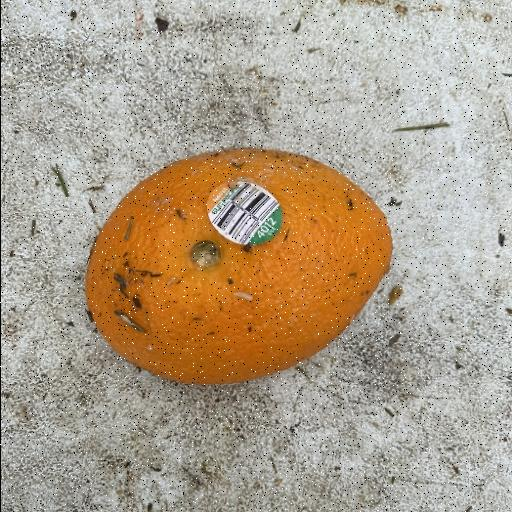Waste: (84, 146, 394, 386)
